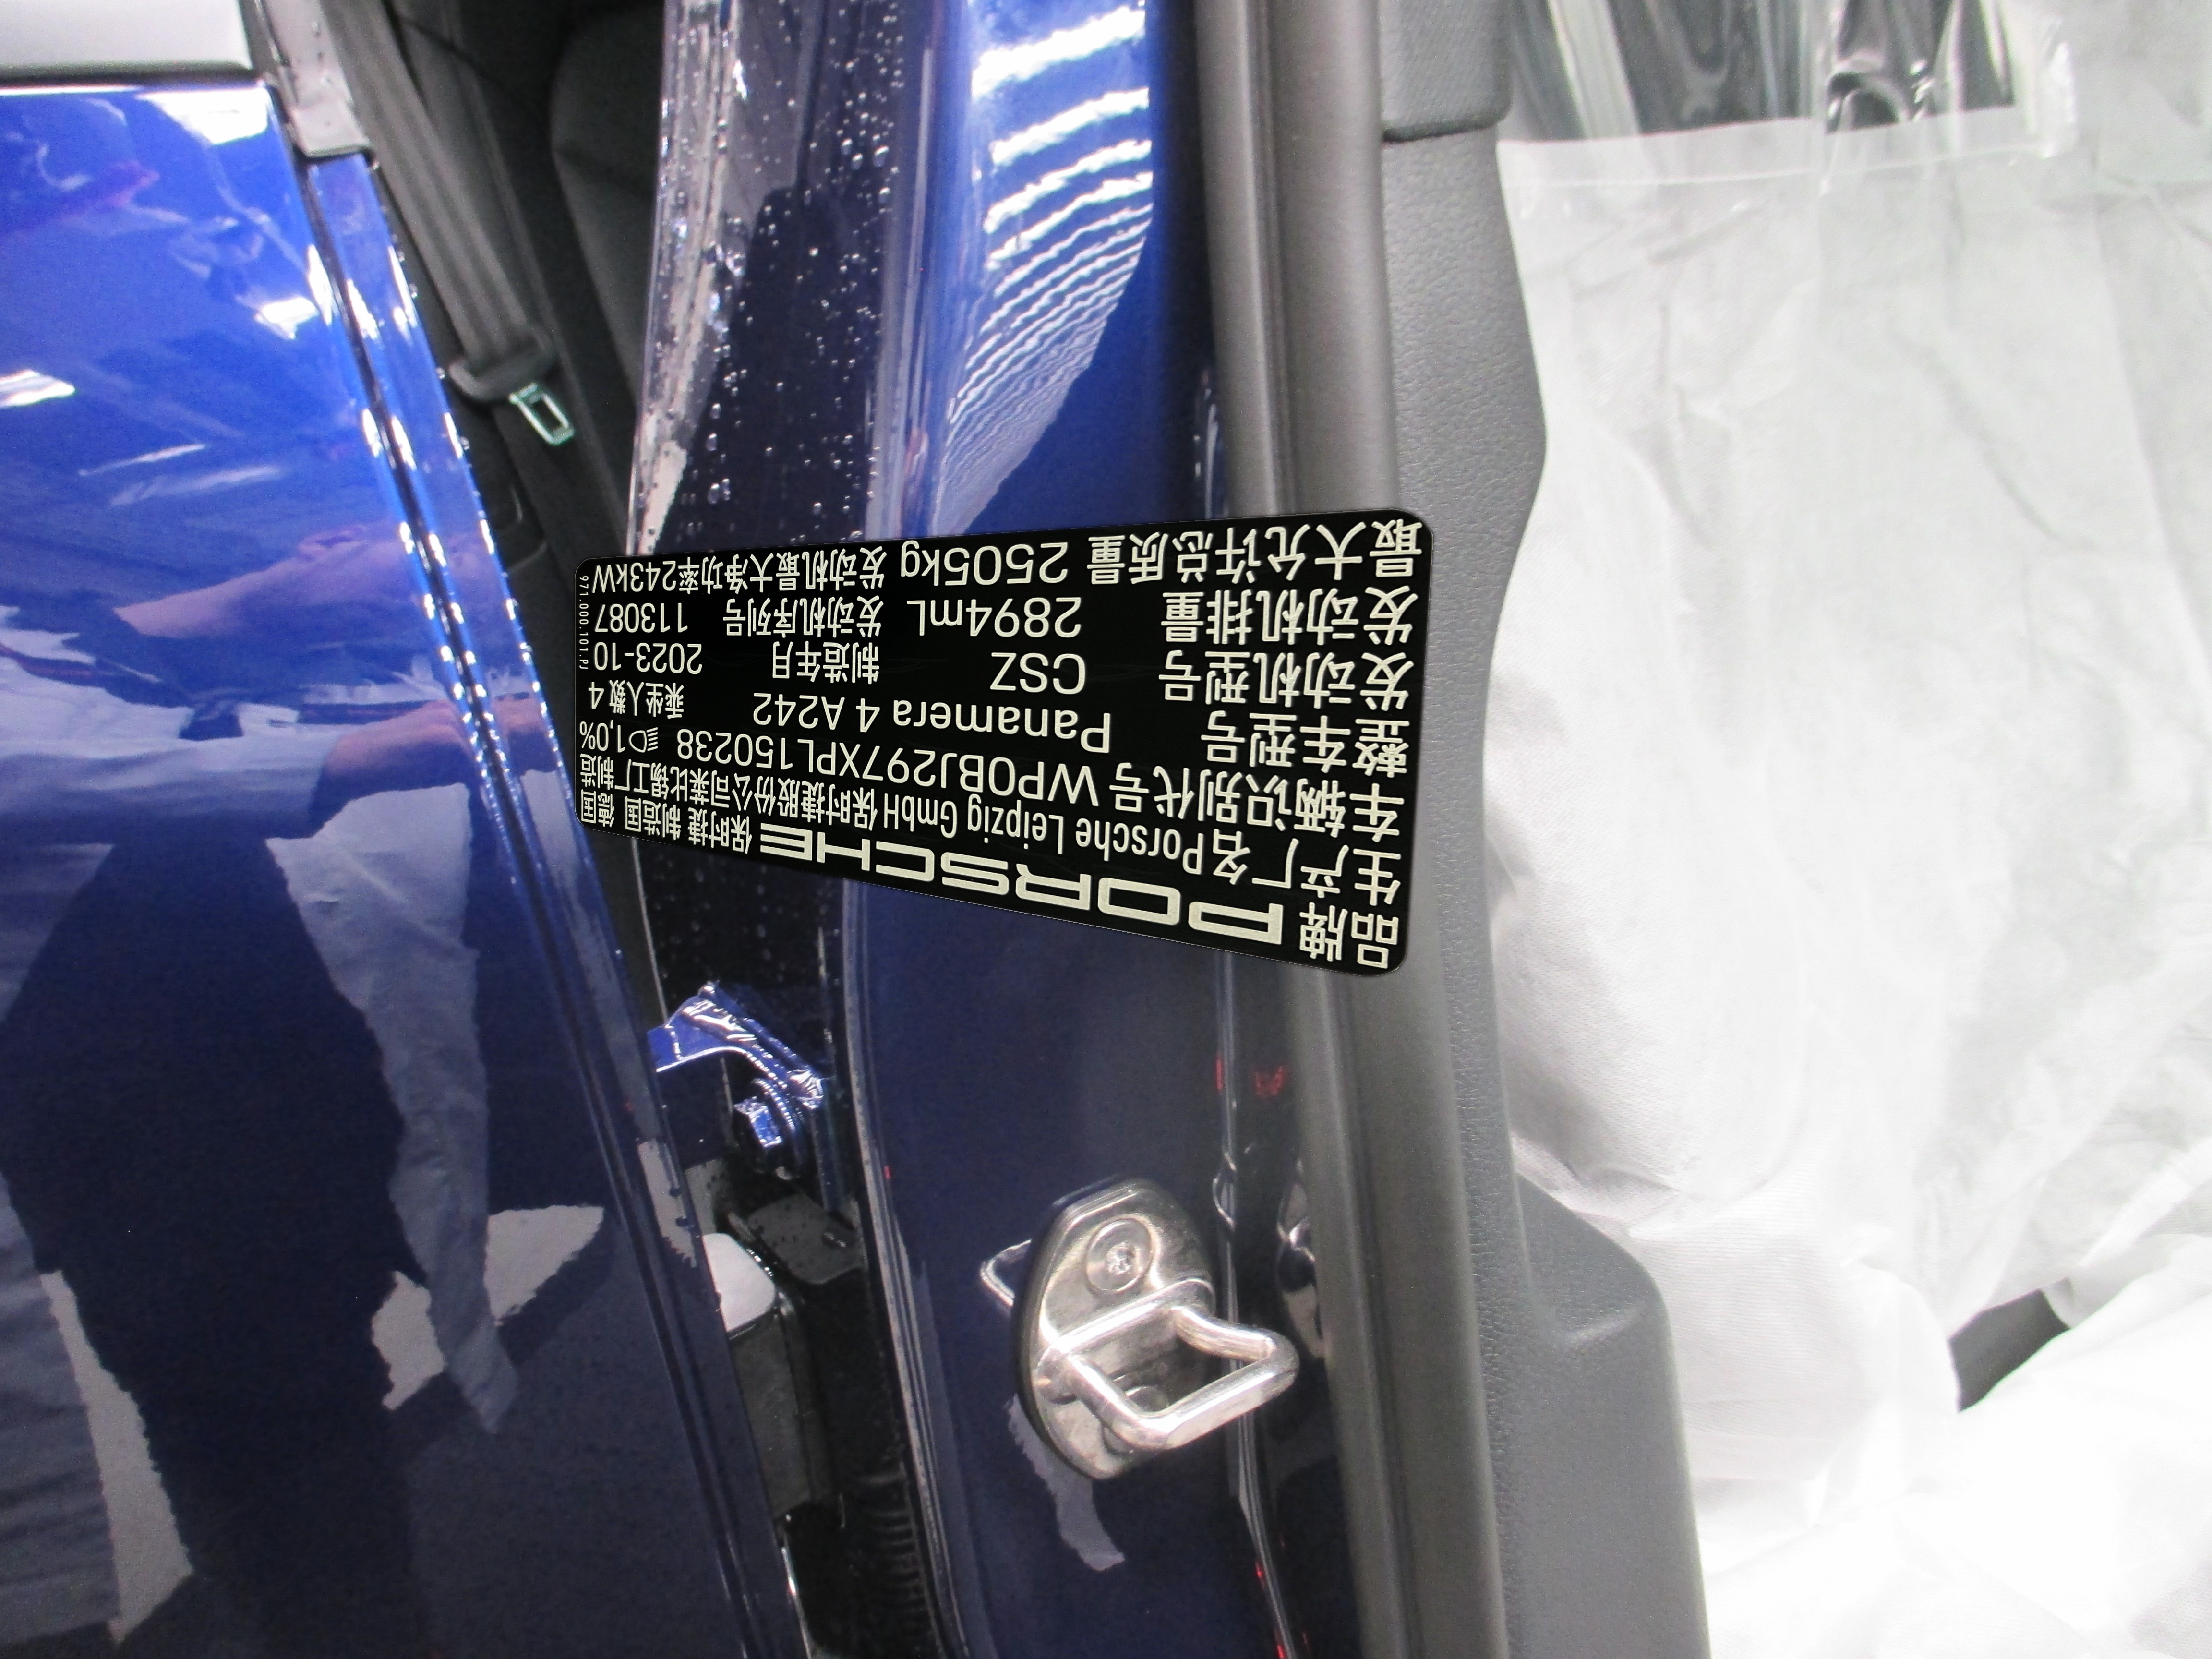Typlabel-China: (575, 509, 1433, 976)
